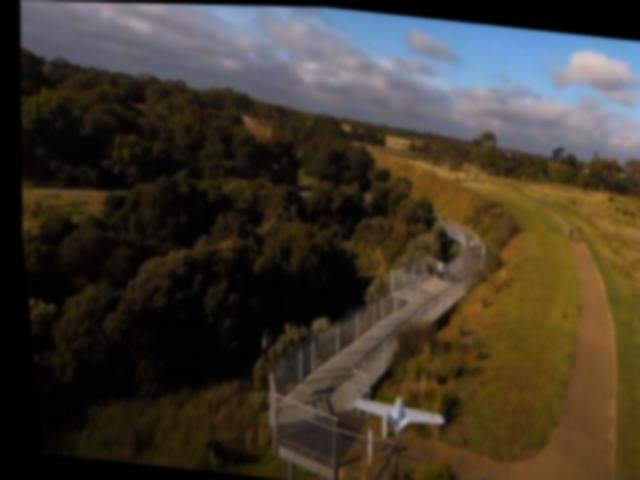iha: (338, 387, 442, 438)
